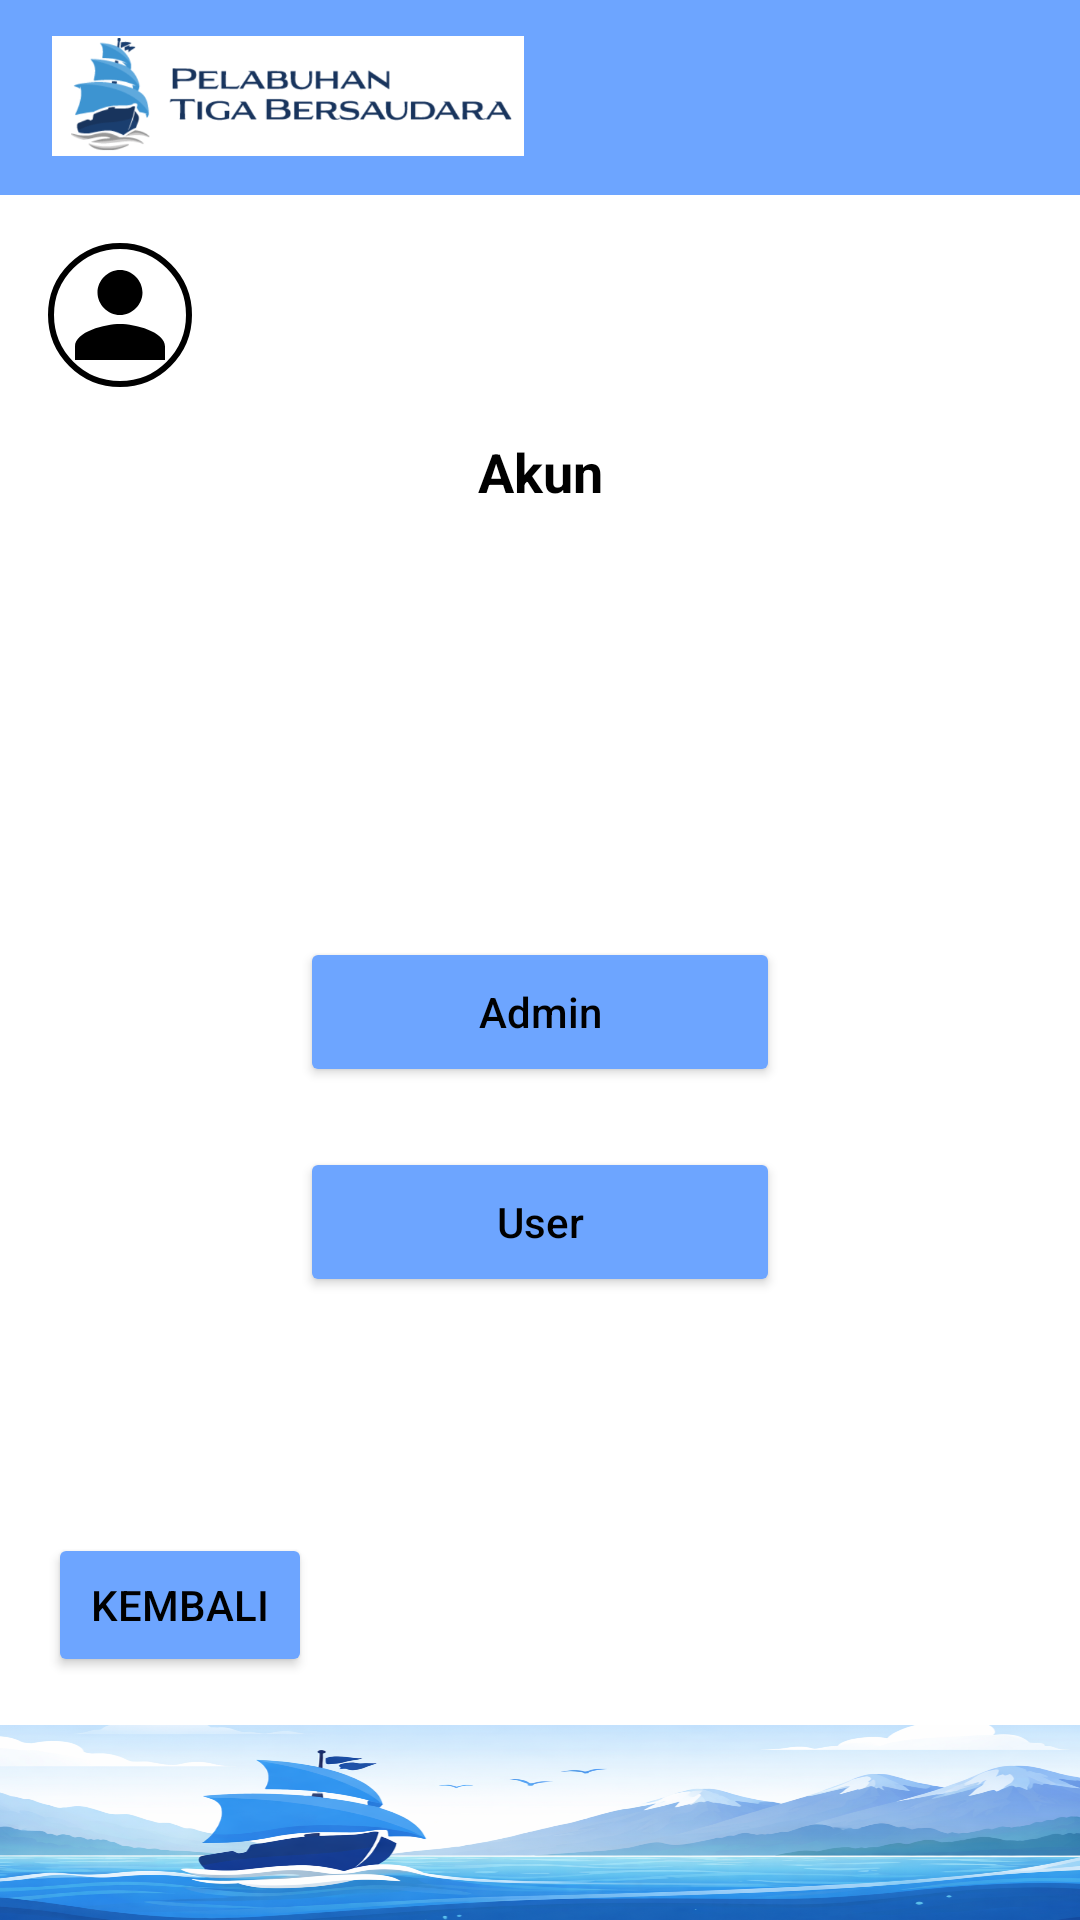

Named icons in this screenshot (1080×1920) and their bounding boxes, (x1, y1, x2, y2):
profile: (48, 243, 192, 387)
